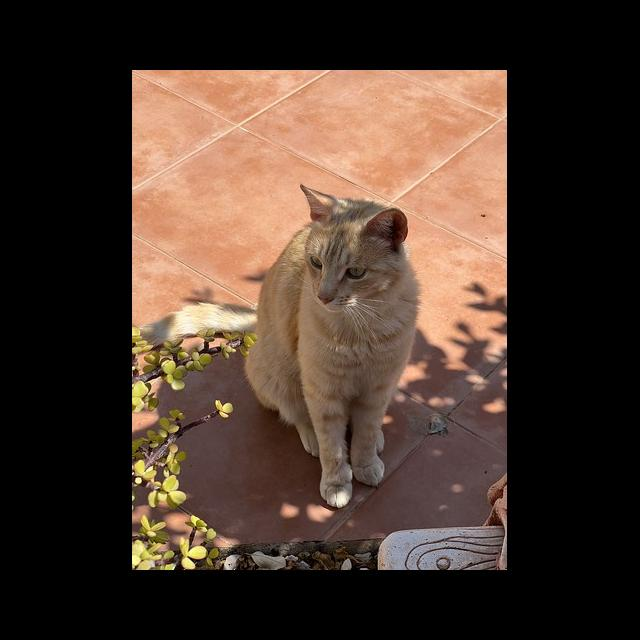animals: (134, 185, 418, 509)
